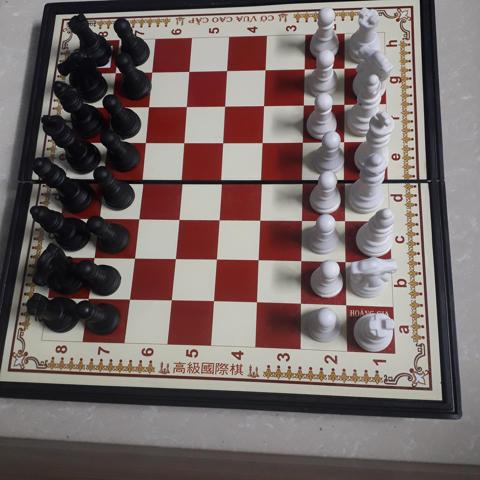xcorner: (81, 291, 96, 306), (122, 292, 137, 307), (294, 298, 309, 313), (339, 299, 354, 314), (86, 250, 101, 265), (126, 251, 141, 266), (130, 211, 145, 226), (170, 211, 185, 226), (211, 212, 226, 227), (253, 212, 268, 227), (95, 172, 110, 187), (254, 173, 269, 188), (296, 173, 311, 188), (137, 135, 152, 150), (176, 135, 191, 150), (103, 100, 118, 115), (179, 99, 194, 114), (257, 98, 272, 113), (338, 97, 353, 112), (107, 66, 122, 81), (144, 65, 159, 80), (258, 63, 273, 78), (164, 294, 179, 308), (207, 295, 221, 310), (250, 297, 265, 311), (167, 252, 182, 266), (209, 253, 224, 267), (295, 255, 310, 269), (339, 256, 354, 270), (91, 210, 105, 225), (296, 213, 310, 228), (339, 214, 354, 228), (134, 172, 148, 187), (173, 173, 188, 187), (213, 173, 228, 187), (339, 173, 353, 188), (99, 136, 114, 150), (216, 135, 230, 150), (256, 135, 270, 150), (338, 135, 353, 149), (141, 100, 156, 114), (297, 98, 312, 112), (220, 64, 234, 79), (298, 62, 312, 77), (252, 254, 266, 268), (297, 135, 311, 149), (218, 99, 232, 113), (182, 65, 196, 79), (338, 62, 352, 76)
